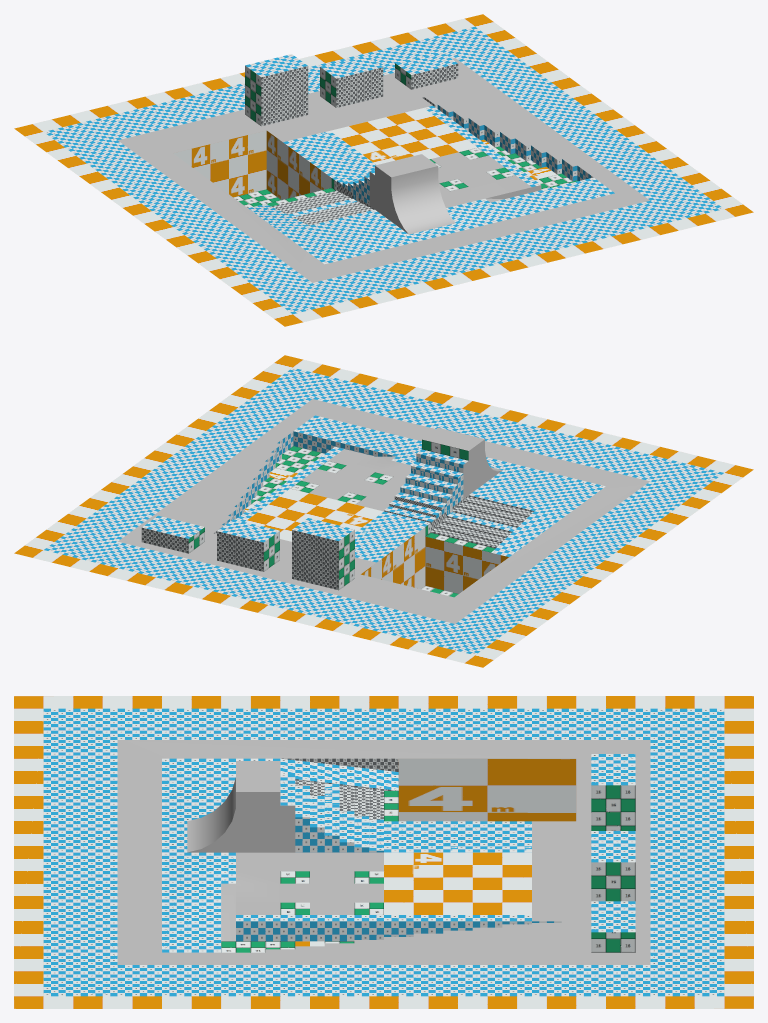
The model's file is SunshineTest.obj.
3 renders of one model, top to bottom at view 1: azimuth 30°, elevation 25°; view 2: azimuth 150°, elevation 25°; view 3: azimuth 270°, elevation 25°, orthographic. The views are drawn at different scales.
Bounding box in the file's own units: 802 × 176 × 802.
